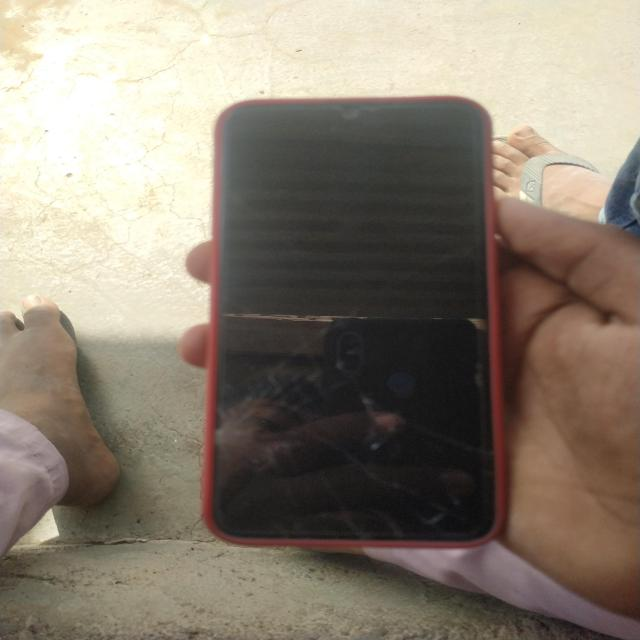mobile: (120, 45, 554, 587)
